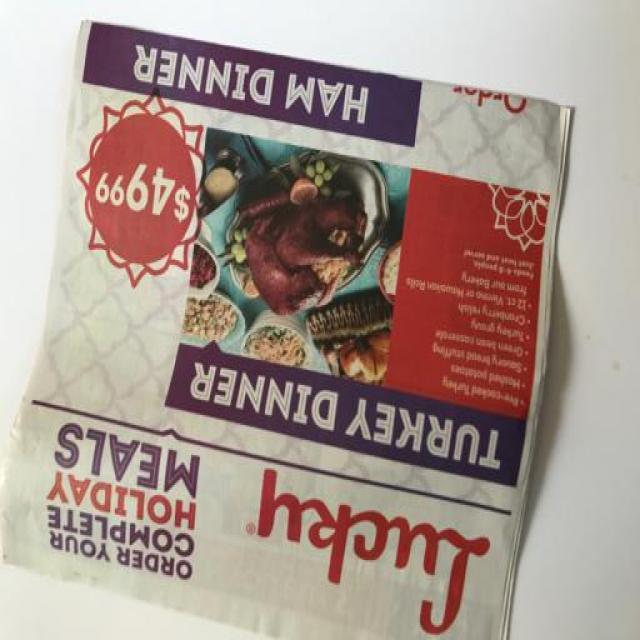paper: (4, 14, 595, 640)
